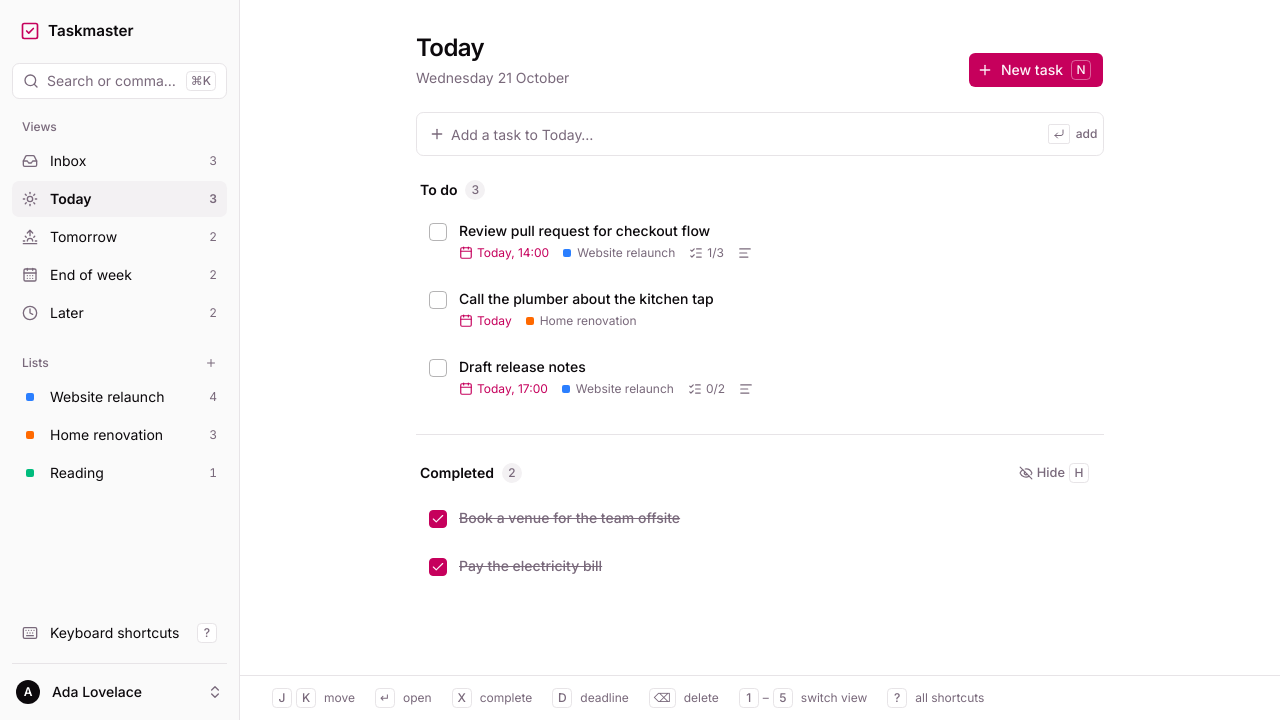
WorkspaceScreen › opens a task when clicked
Click the button "Call the plumber about the kitchen tap": (586, 298) [459, 289, 1091, 309]
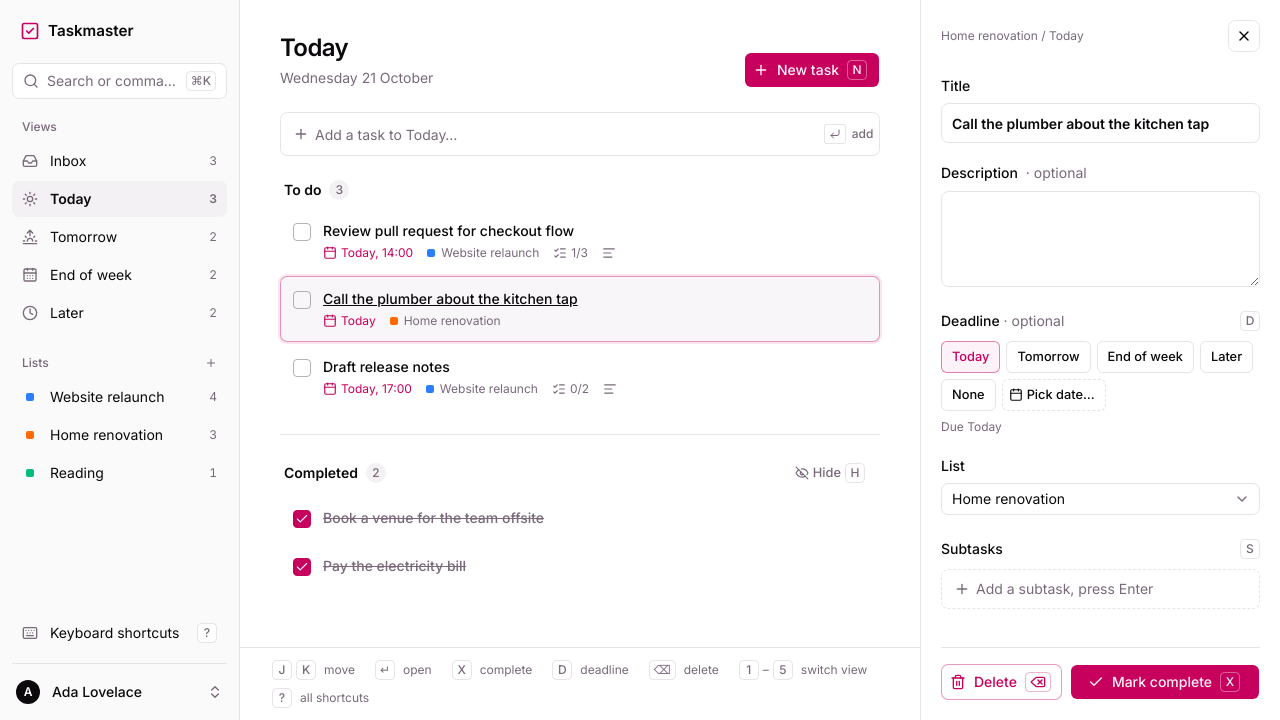
expect the field labelled "Title" holds "Call the plumber about the kitchen tap": met, box [941, 103, 1260, 143]
